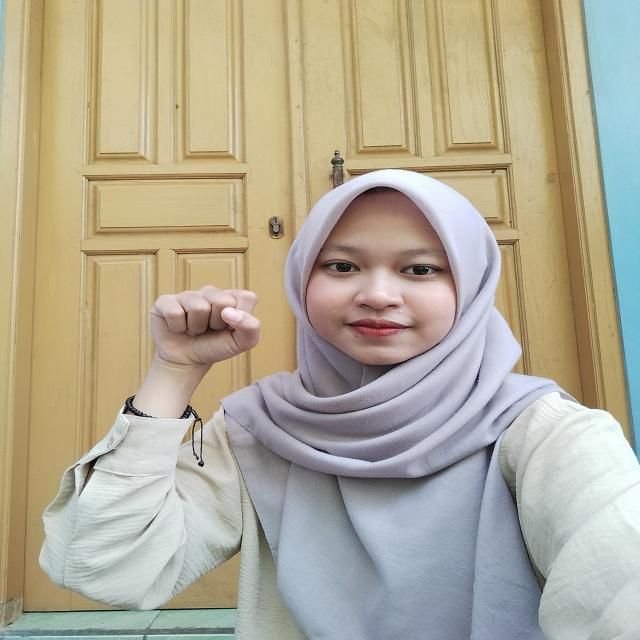baik: (126, 285, 273, 437)
